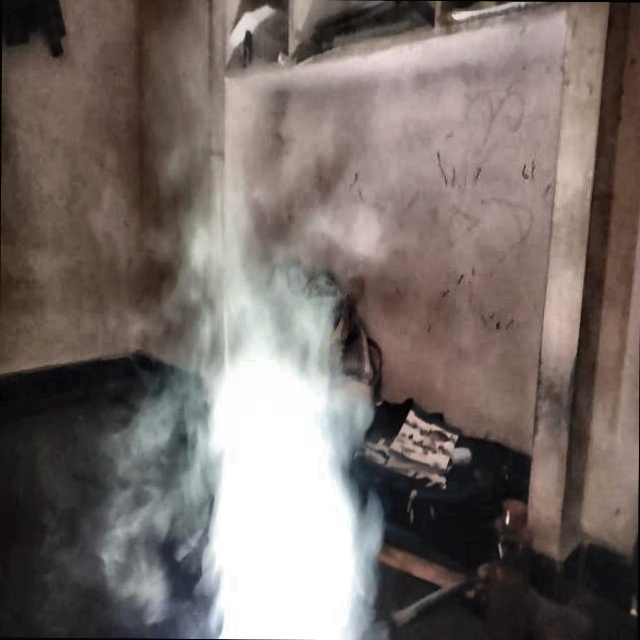smoke: (174, 278, 385, 640)
